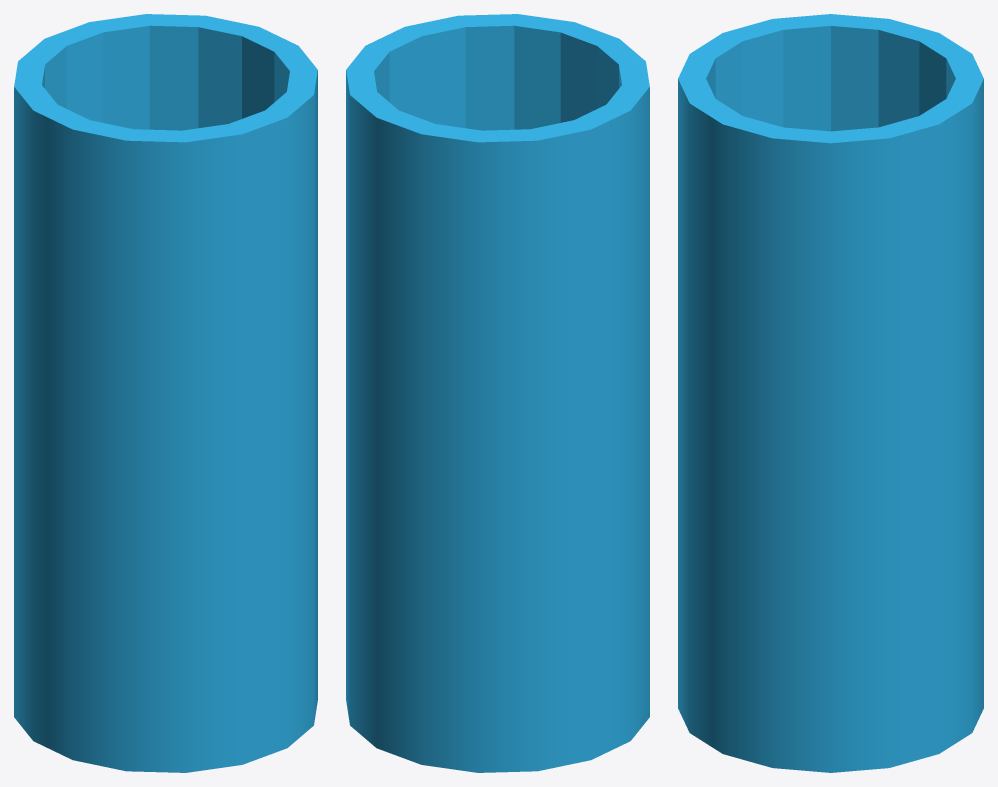
The model's file is SM_glass_07.fbx.
The picture shows the model from 3 angles, left to right: view 1: azimuth 30°, elevation 25°; view 2: azimuth 150°, elevation 25°; view 3: azimuth 270°, elevation 25°; orthographic projection.
Parts seen in each view (by area): view 1: glass_07; view 2: glass_07; view 3: glass_07.
Boxes of the visible parts, x1,y1,x2,y2 form: glass_07: [14, 14, 317, 772]; glass_07: [346, 14, 649, 772]; glass_07: [678, 14, 983, 772].
Bounding box in the file's own units: 11.84 × 26.88 × 11.84.
